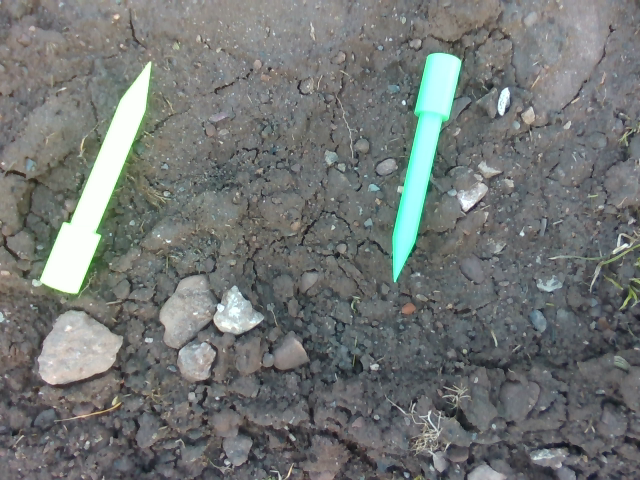Probe: (35, 52, 161, 298), (384, 43, 467, 293)
